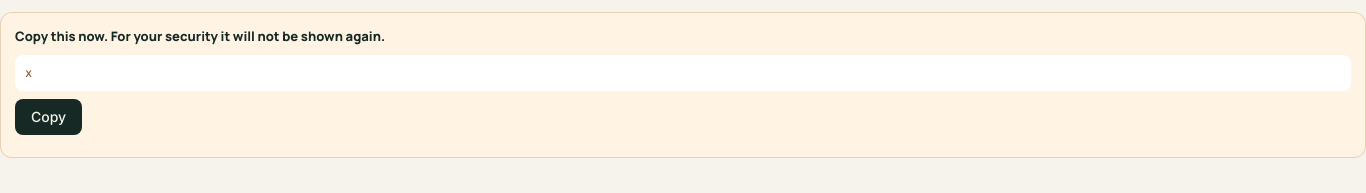
Test: SecretReveal › says so when copying is not allowed
This screenshot has width=1366, height=193.
Click the button "Copy" at (49, 116), box top-left (15, 98), bottom-right (82, 134)
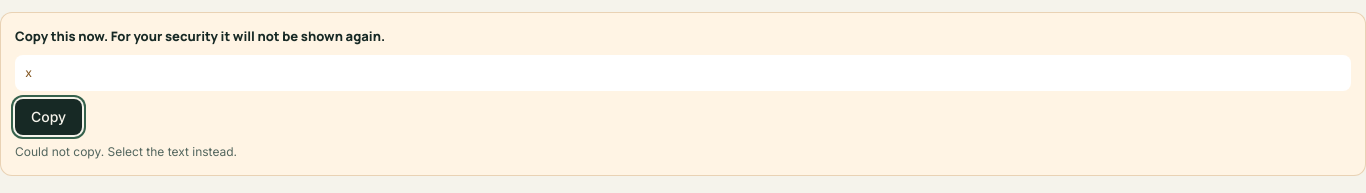
Check: the text "Could not copy. Select the text instead." is shown, box top-left (15, 144), bottom-right (237, 158)
